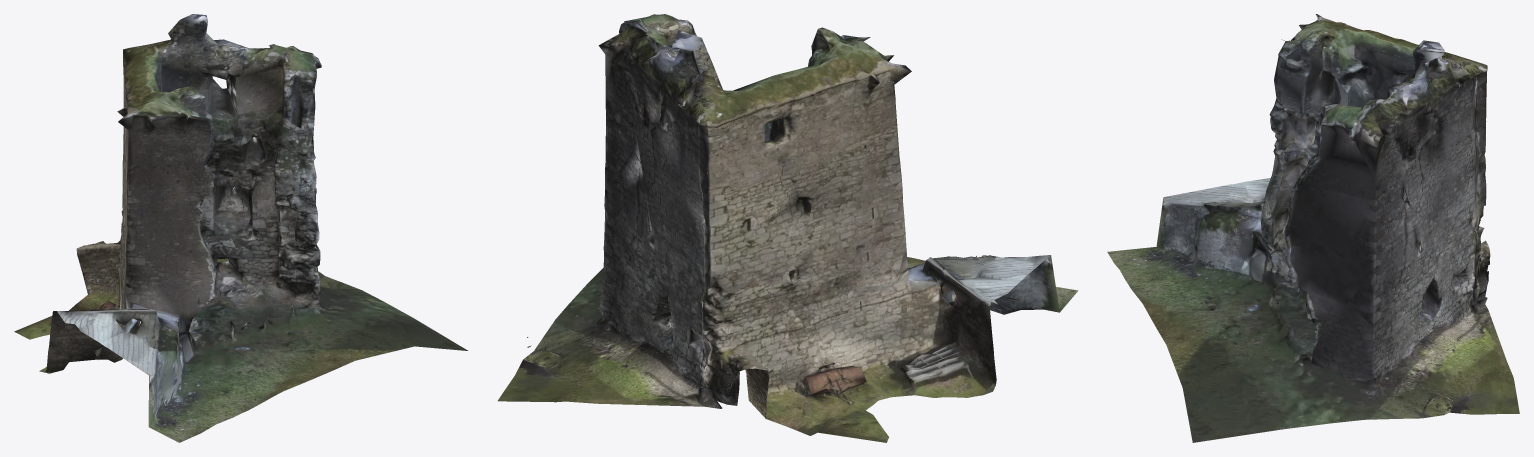
The model's file is tower_ruin.glb.
The picture shows the model from 3 angles, left to right: view 1: azimuth 30°, elevation 25°; view 2: azimuth 150°, elevation 25°; view 3: azimuth 270°, elevation 25°; orthographic projection. The views are drawn at different scales.
Visible parts, largest first — view 1: Object_2; view 2: Object_2; view 3: Object_2.
Part boxes in pixels (x1=…): Object_2: x1=14, y1=14, x2=467, y2=442; Object_2: x1=498, y1=14, x2=1078, y2=442; Object_2: x1=1107, y1=14, x2=1519, y2=442.
Bounding box in the file's own units: 23.25 × 17.91 × 21.28.
1 material, 1 textured.
